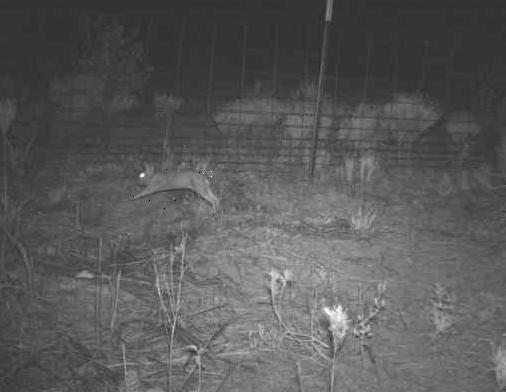Rabbit: (129, 158, 221, 210)
